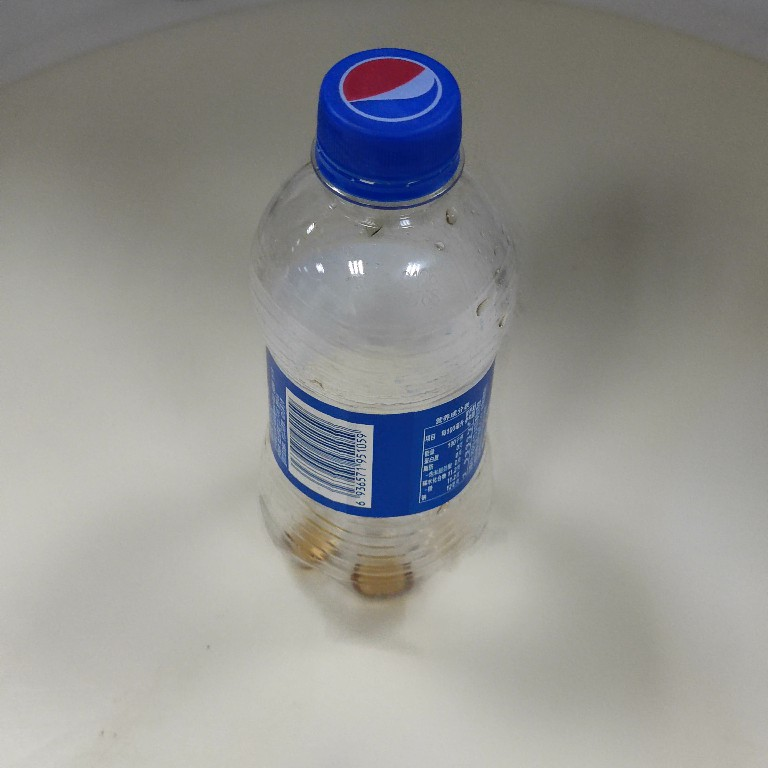bottle: (239, 44, 529, 608)
